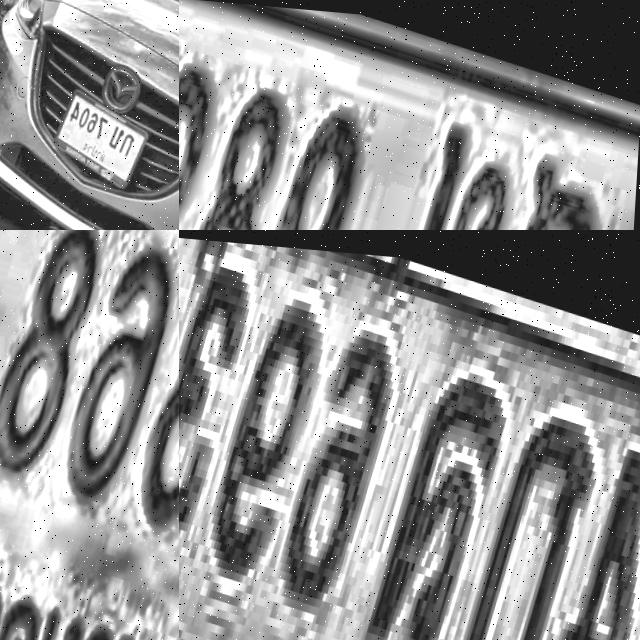license-plate: (179, 230, 640, 640), (179, 0, 640, 230), (0, 230, 179, 640), (49, 85, 161, 192)
